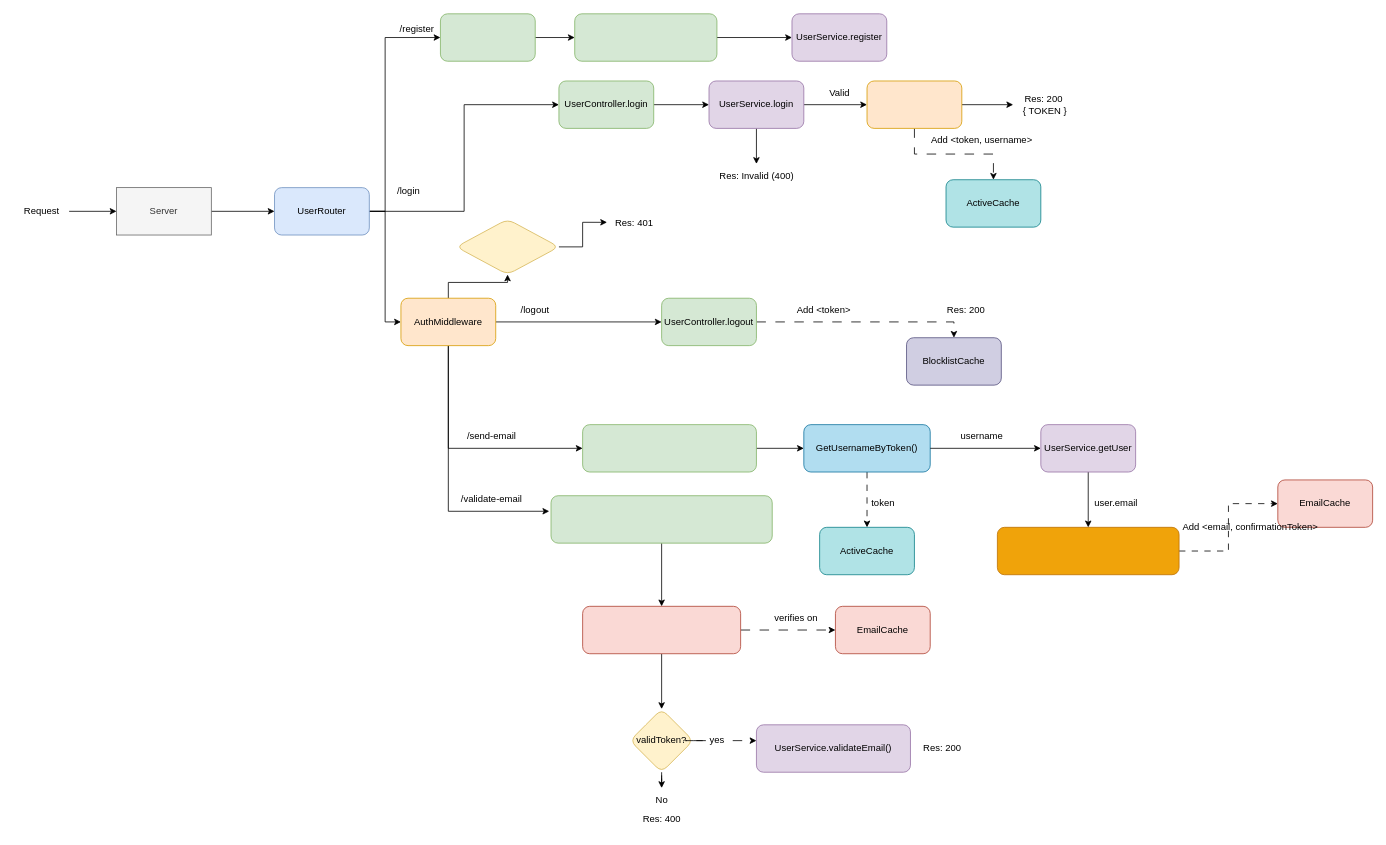
Some shapes in this 1386 by 845 pixel diagram are drawn without their labels. The shapes that lost their labels are listed below. From the top down, each one's centre as x and y in pixels, then its label:
At (487,37): "UserController.register".
At (645,37): "UserController.validateUser".
At (914,104): "Auth.generateToken".
At (507,246): "Invalid Token or In Blocklist".
At (669,448): "UserController.sendEmailConfirmation".
At (661,519): "UserController.validateConfirmationEmailToken".
At (1088,551): "EmailService.sendConfirmationEmail".
At (661,630): "validateIncomeConfirmationToken()".
